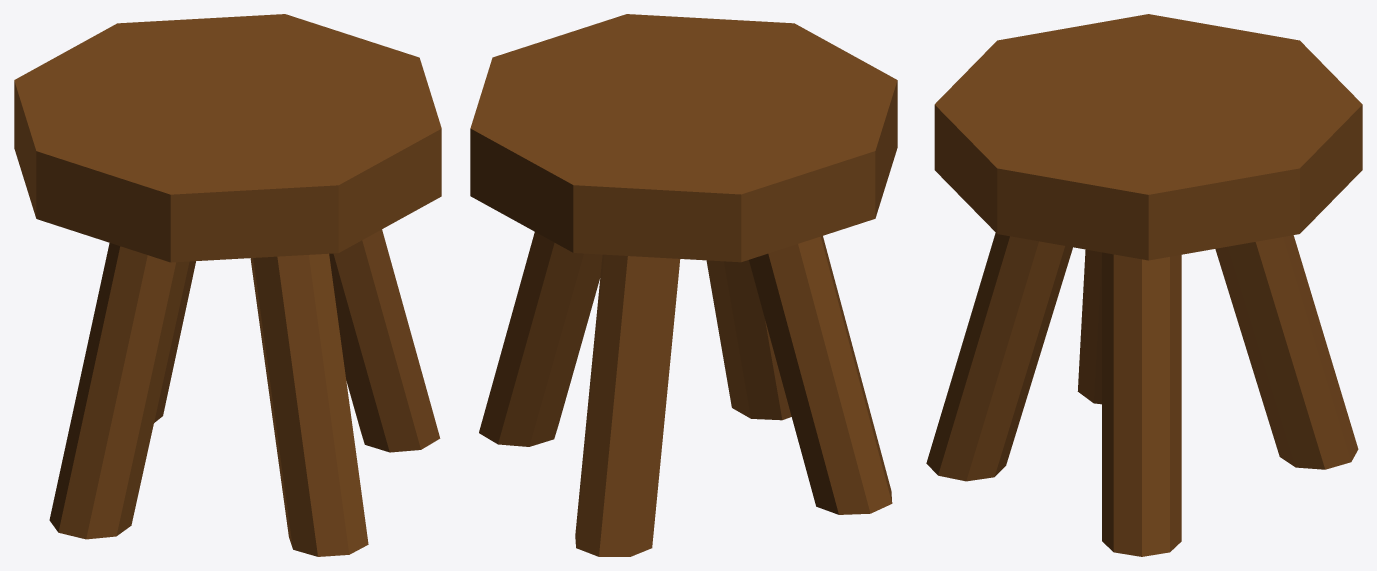
File: SillaMadera.fbx
3 renders of one model, left to right at view 1: azimuth 30°, elevation 25°; view 2: azimuth 150°, elevation 25°; view 3: azimuth 270°, elevation 25°, orthographic. The views are drawn at different scales.
Visible parts, largest first — view 1: Stoll; view 2: Stoll; view 3: Stoll.
Boxes of the visible parts, x1=… form: Stoll: x1=14, y1=14, x2=441, y2=556; Stoll: x1=470, y1=14, x2=897, y2=556; Stoll: x1=926, y1=14, x2=1362, y2=556.
Size of the model in its own units: 73.65 by 65.77 by 72.58.
